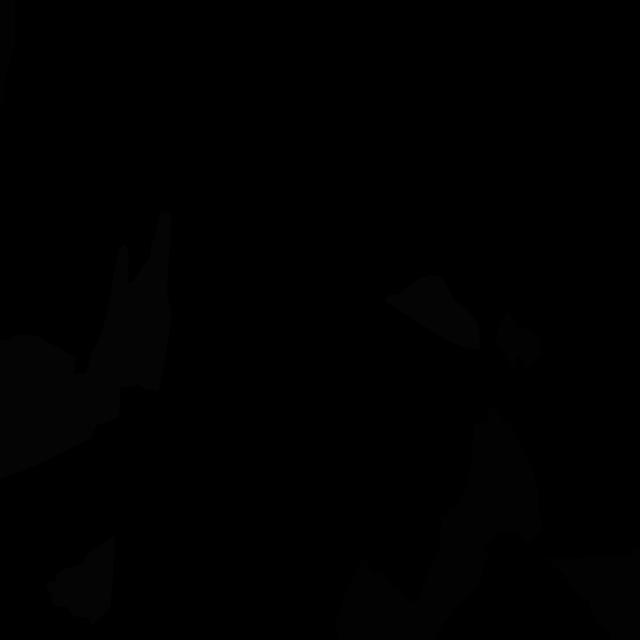cardboard: (335, 405, 542, 640), (542, 547, 640, 640), (496, 311, 542, 374), (0, 0, 15, 111)
soft_plastic: (72, 211, 172, 436), (0, 335, 92, 479), (385, 275, 480, 349), (46, 537, 115, 626)
